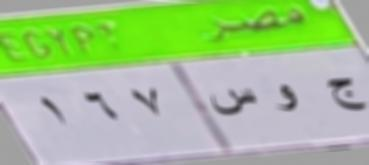1: (40, 90, 69, 133)
6: (83, 88, 119, 124)
7: (131, 82, 164, 120)
jeem: (326, 72, 368, 116)
seen: (210, 82, 258, 122)
waw: (274, 82, 301, 117)
